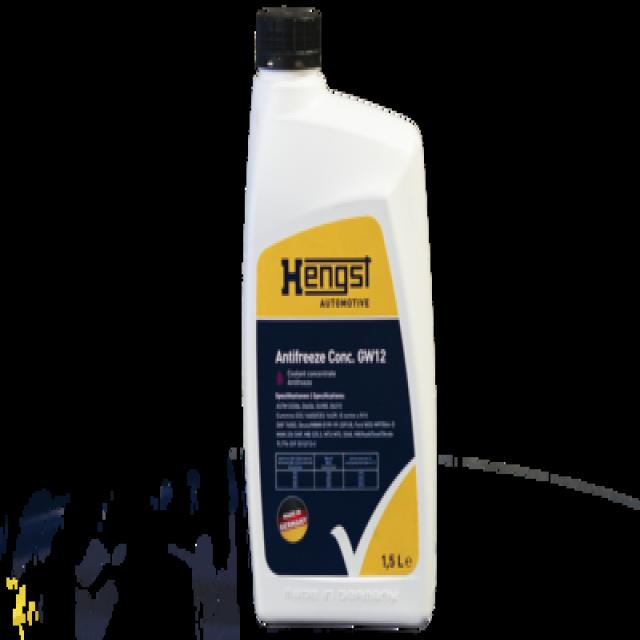coolant: (251, 5, 442, 634)
